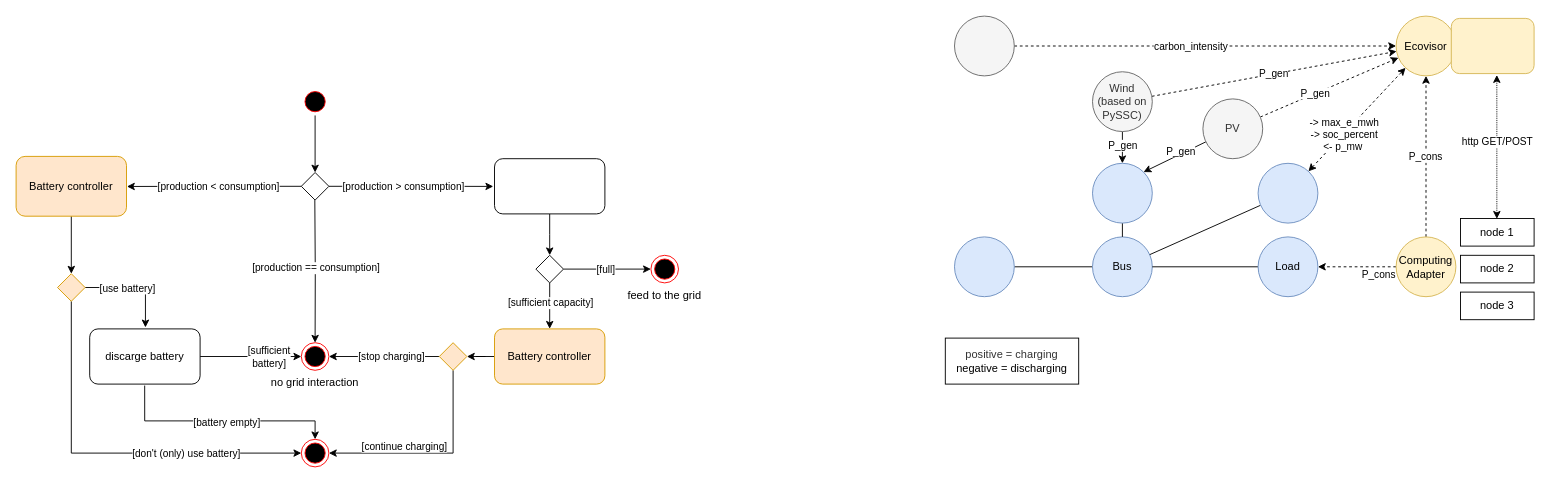
Some shapes in this 1550 by 502 pixel diagram are drawn without their labels. The shapes that lost their labels are listed below. From the top down, each one's centre as x and y in pixels, then its label:
the point at 984,45: Carbon Intensity
the point at 1492,45: REST API
the point at 549,186: charge battery
the point at 1122,192: SGen
the point at 1287,192: Storage
the point at 984,266: Ext_grid
the point at 314,452: consume from grid
